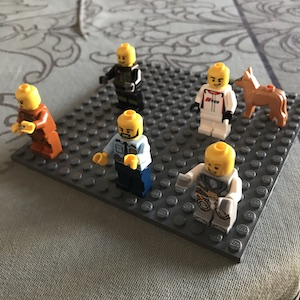Lego: (185, 140, 241, 235), (101, 109, 155, 196), (11, 83, 65, 160), (193, 61, 237, 139), (105, 40, 146, 115)
